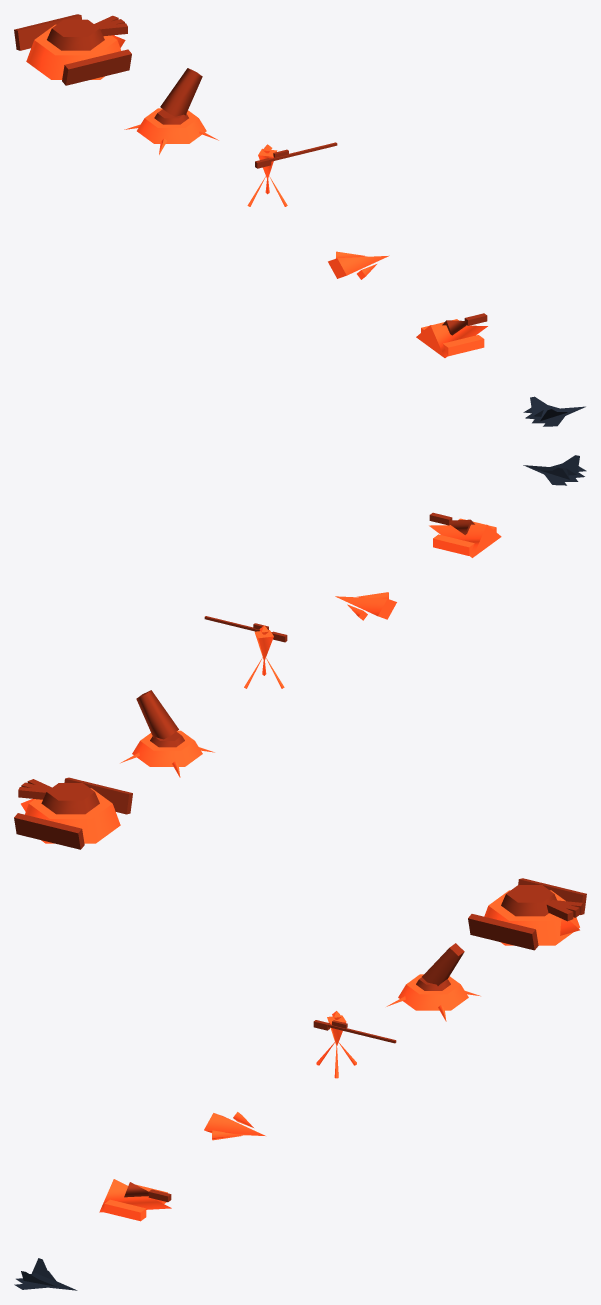
File: craft-lineup.glb
3 renders of one model, top to bottom at view 1: azimuth 30°, elevation 25°; view 2: azimuth 150°, elevation 25°; view 3: azimuth 330°, elevation 25°, orthographic.
Visible parts, largest first — view 1: body (×4), turret-part-4, turret-part-0, mortar, hull, turret-part-5; view 2: body (×5), turret-part-5, turret-part-0, mortar, hull, turret-part-4; view 3: body (×5), turret-part-4, turret-part-0, mortar, hull, turret-part-5.
Part boxes in pixels (left/top/right/bottom): body (×4): left=26, top=24, right=487, bottom=357; turret-part-4: left=62, top=49, right=131, bottom=85; turret-part-0: left=47, top=19, right=104, bottom=50; mortar: left=160, top=68, right=202, bottom=116; hull: left=523, top=396, right=585, bottom=426; turret-part-5: left=14, top=14, right=81, bottom=50; body (×5): left=21, top=518, right=501, bottom=843; turret-part-5: left=14, top=813, right=84, bottom=849; turret-part-0: left=41, top=783, right=99, bottom=814; mortar: left=136, top=690, right=178, bottom=739; hull: left=523, top=455, right=586, bottom=485; turret-part-4: left=64, top=777, right=132, bottom=814; body (×5): left=99, top=890, right=579, bottom=1221; turret-part-4: left=468, top=914, right=538, bottom=950; turret-part-0: left=501, top=885, right=556, bottom=916; mortar: left=422, top=943, right=464, bottom=985; hull: left=14, top=1258, right=77, bottom=1290; turret-part-5: left=518, top=878, right=586, bottom=914.
Size of the model in its own units: 7.28 by 4.25 by 65.02.
